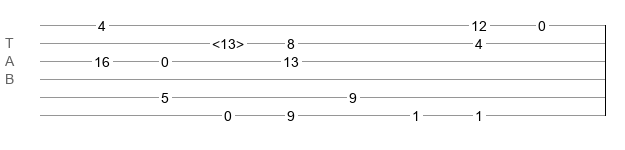0: (161, 54, 169, 64), (224, 108, 232, 118), (538, 18, 546, 28)
1: (412, 108, 420, 118), (475, 108, 483, 118)
12: (471, 18, 487, 28)
13: (283, 54, 299, 64)
16: (94, 54, 110, 64)
4: (98, 18, 106, 28), (475, 36, 483, 46)
5: (161, 90, 169, 100)
8: (287, 36, 295, 46)
9: (287, 108, 295, 118), (349, 90, 357, 100)
harmonic: (212, 36, 244, 46)
